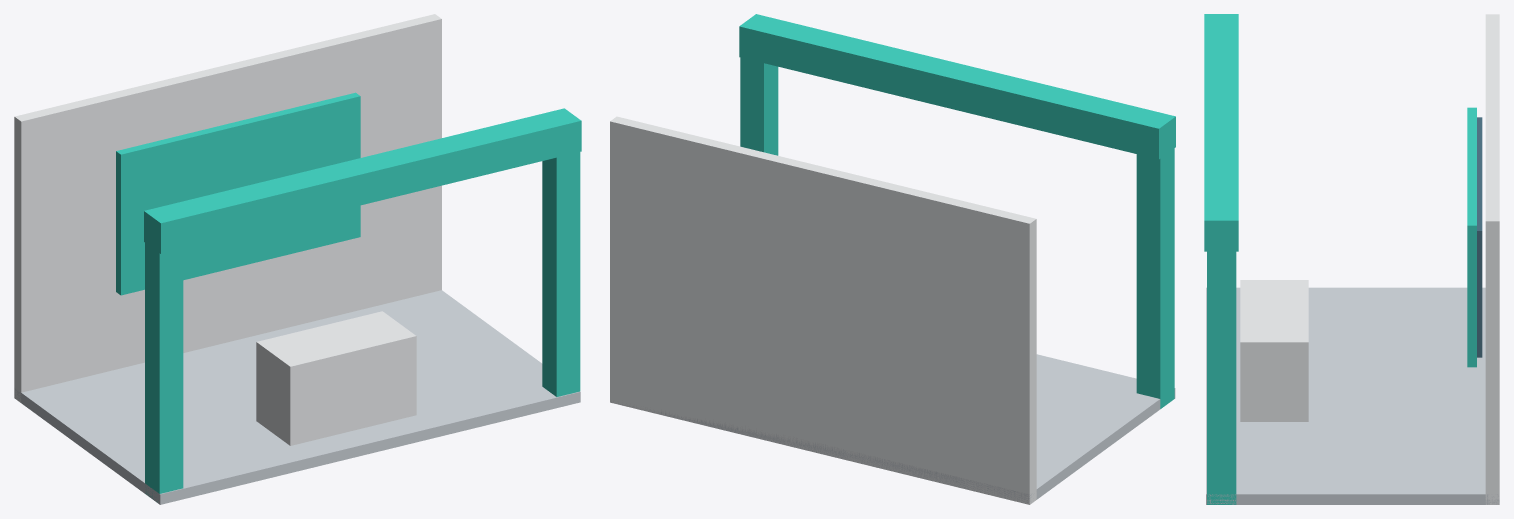
3 views of the same model, side by side, from view 1: azimuth 30°, elevation 25°; view 2: azimuth 150°, elevation 25°; view 3: azimuth 270°, elevation 25° (orthographic).
Visible parts, largest first — view 1: Exhibition Booth Concept; view 2: Exhibition Booth Concept; view 3: Exhibition Booth Concept.
Part boxes in pixels (x1,y1,x2,y2): Exhibition Booth Concept: (14,14,581,504); Exhibition Booth Concept: (610,14,1175,504); Exhibition Booth Concept: (1204,14,1499,504).
Size of the model in its own units: 5 by 3.2 by 3.01.
